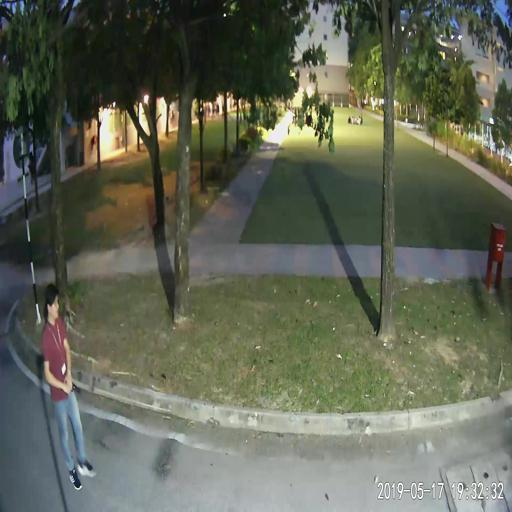Handgun: (64, 377, 79, 392)
